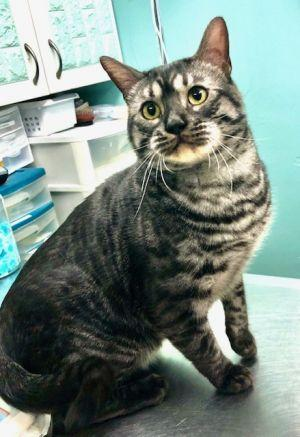bengal: (94, 8, 262, 182)
